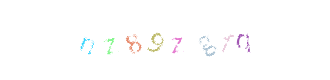8: (105, 0, 185, 80)
9: (124, 0, 204, 80)
F: (160, 0, 240, 80)
G: (138, 0, 218, 80)
N: (46, 0, 126, 80)
Q: (202, 0, 282, 80)
Z: (70, 0, 150, 80), (130, 0, 210, 80)
